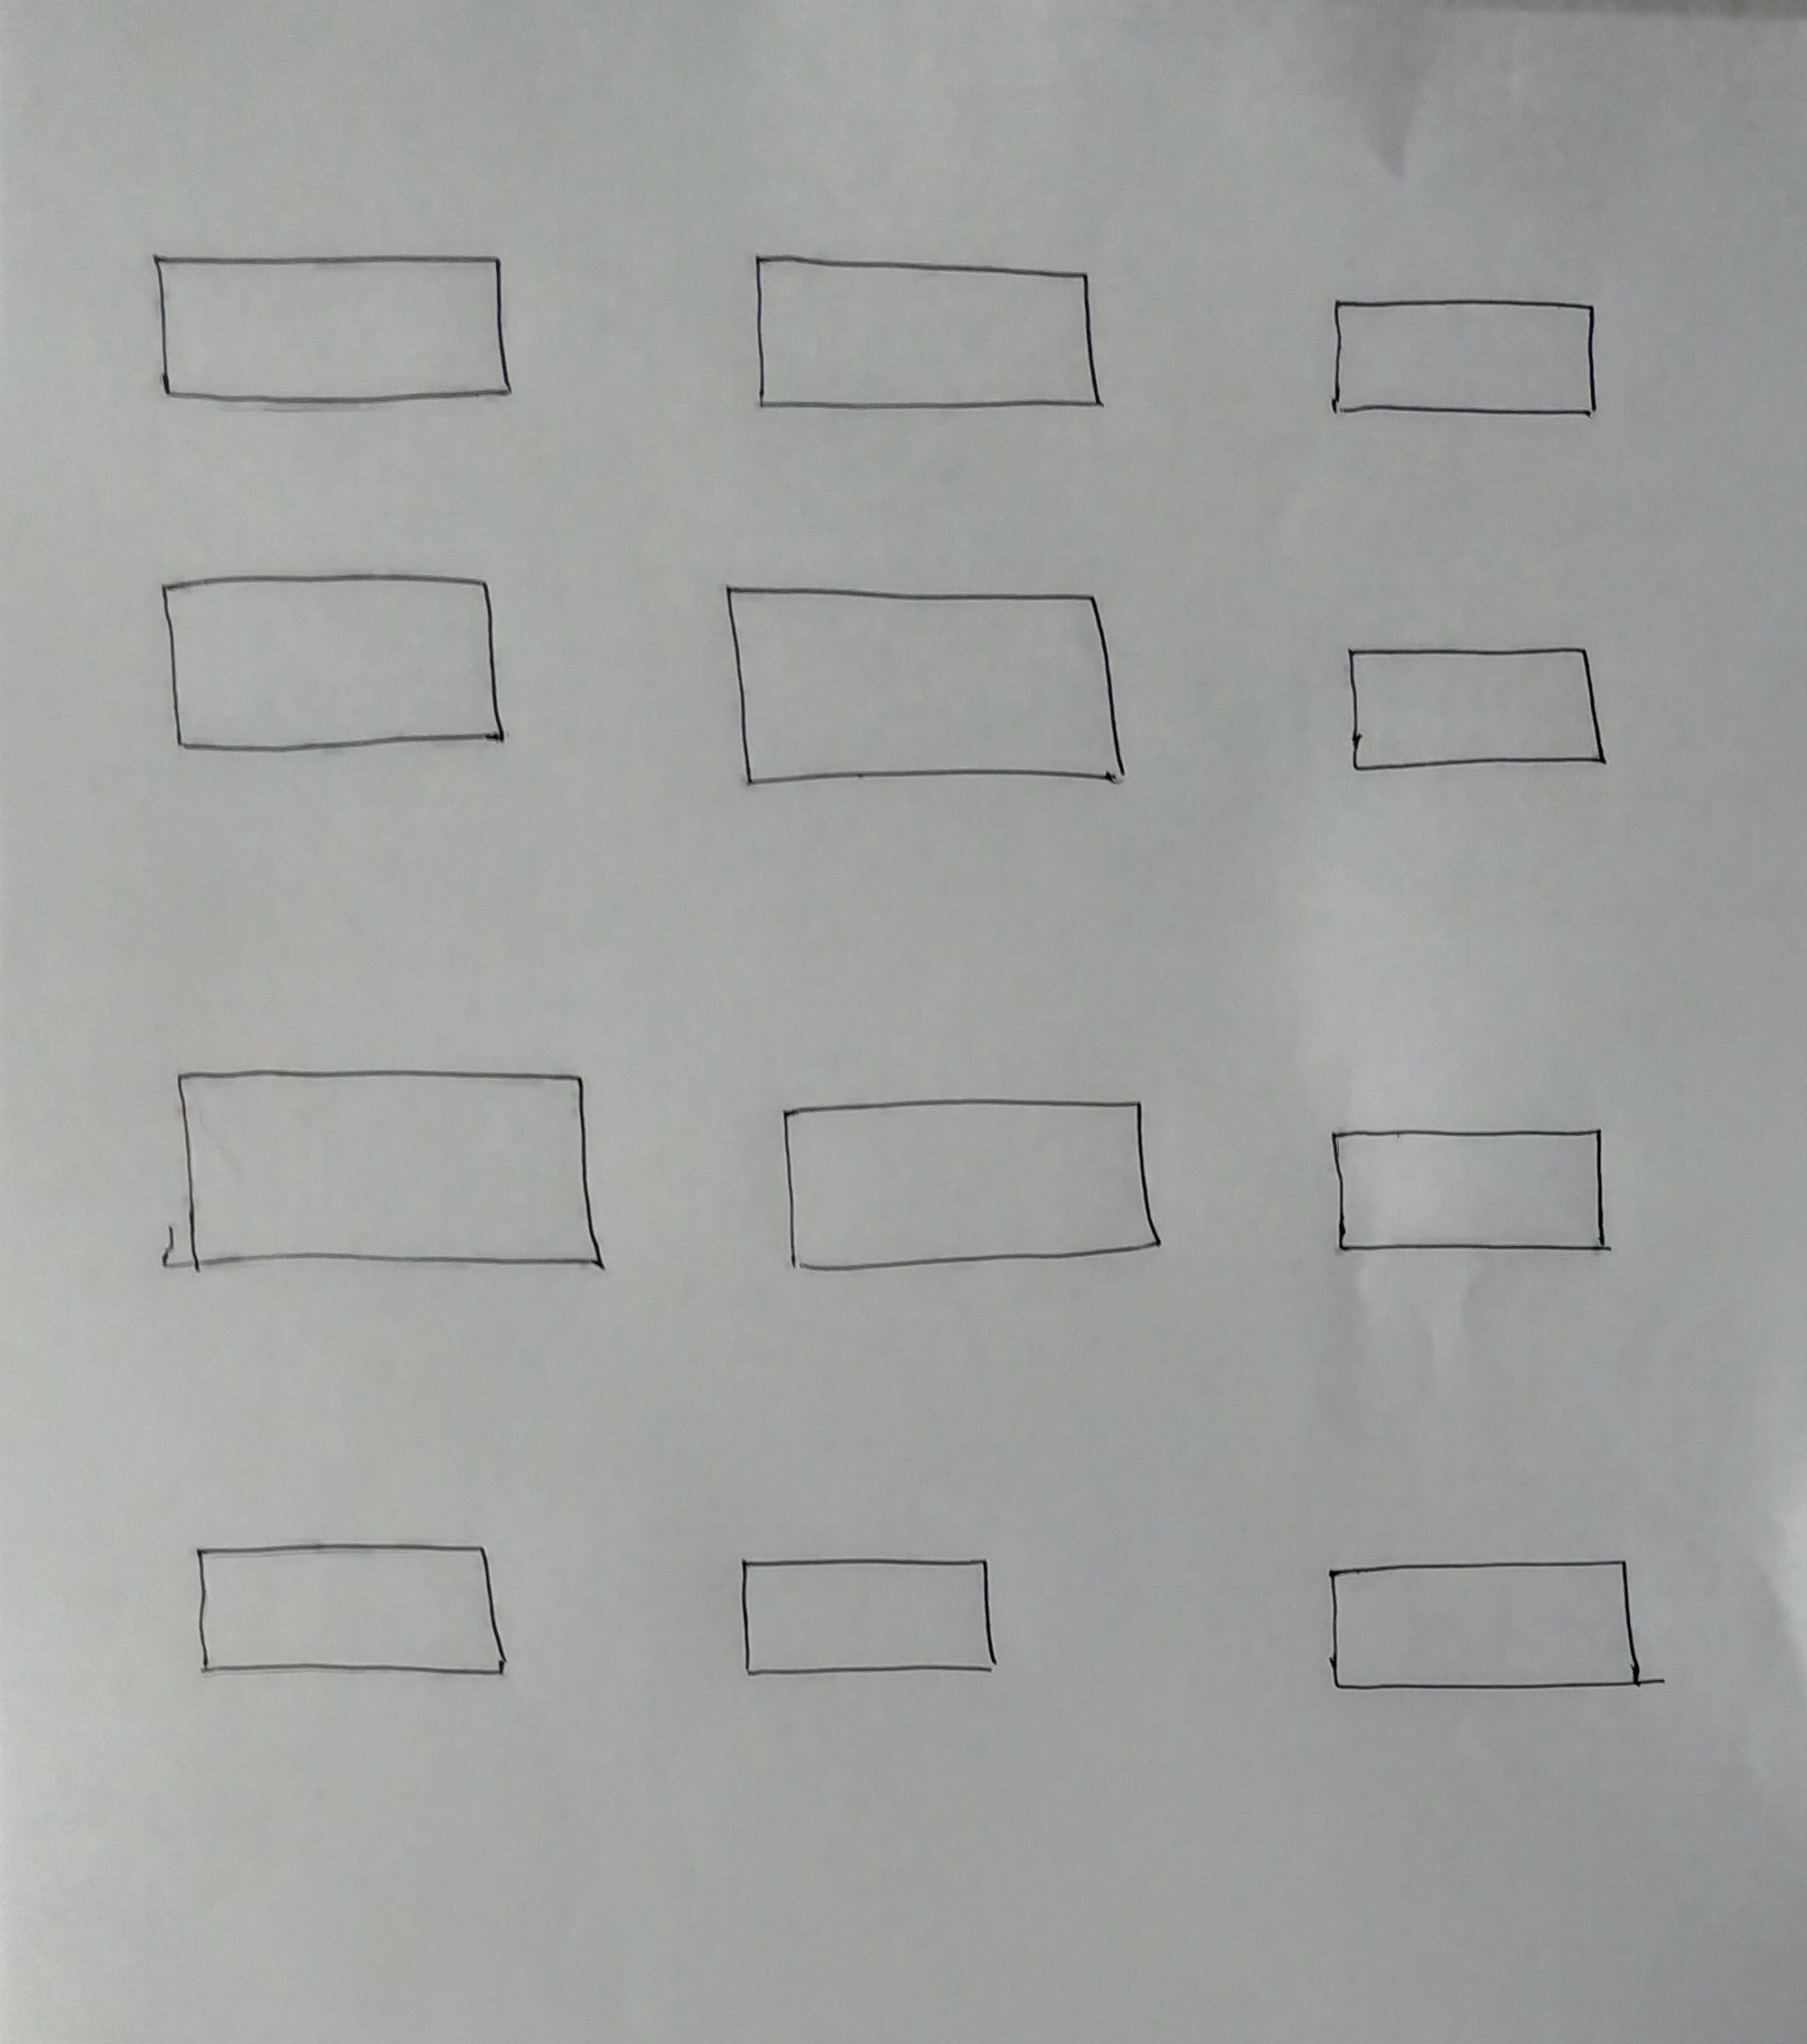process: (164, 1050, 619, 1289), (710, 567, 1146, 804), (771, 1085, 1170, 1275), (153, 556, 522, 762), (741, 234, 1116, 429), (140, 237, 534, 415), (183, 1523, 523, 1692), (1315, 1545, 1664, 1704), (1313, 1113, 1629, 1268), (1315, 279, 1615, 438), (1334, 626, 1624, 788), (727, 1540, 1010, 1686)
